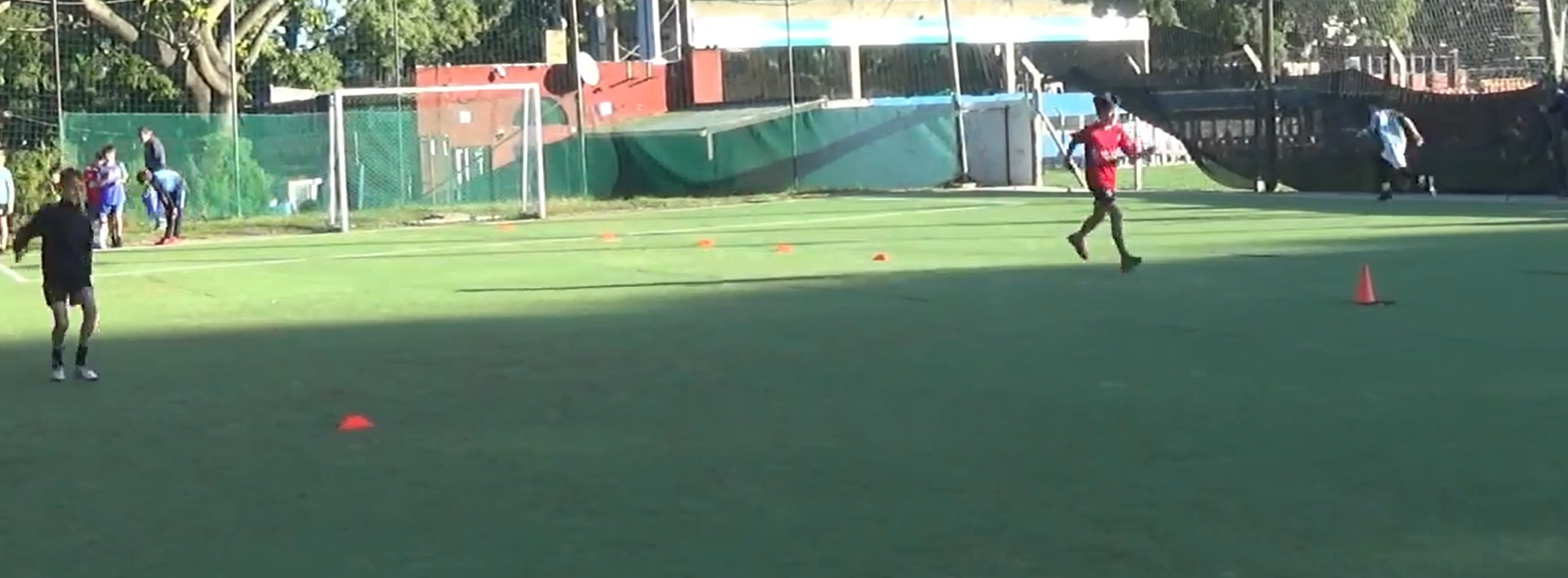cone: (333, 395, 386, 439), (1349, 258, 1383, 318), (591, 222, 630, 258), (687, 224, 726, 258), (769, 228, 801, 262), (867, 237, 897, 271)
goal: (312, 62, 572, 241)
